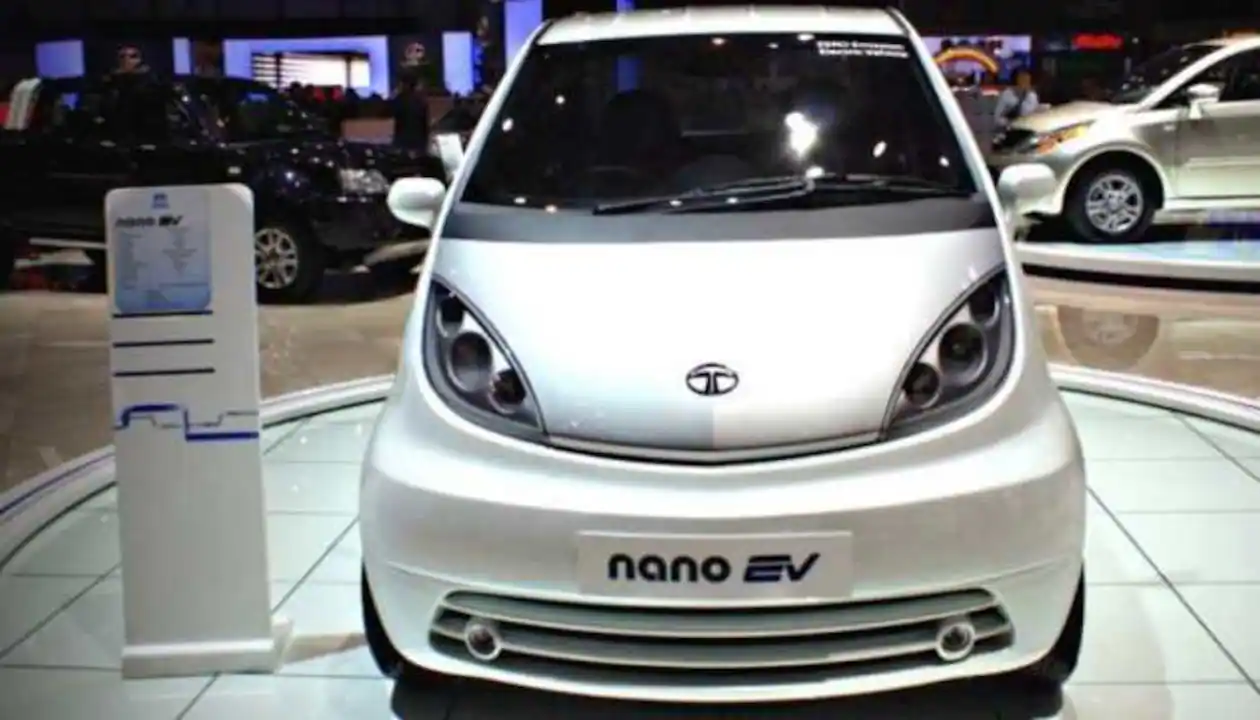Nano: (354, 3, 1090, 720)
